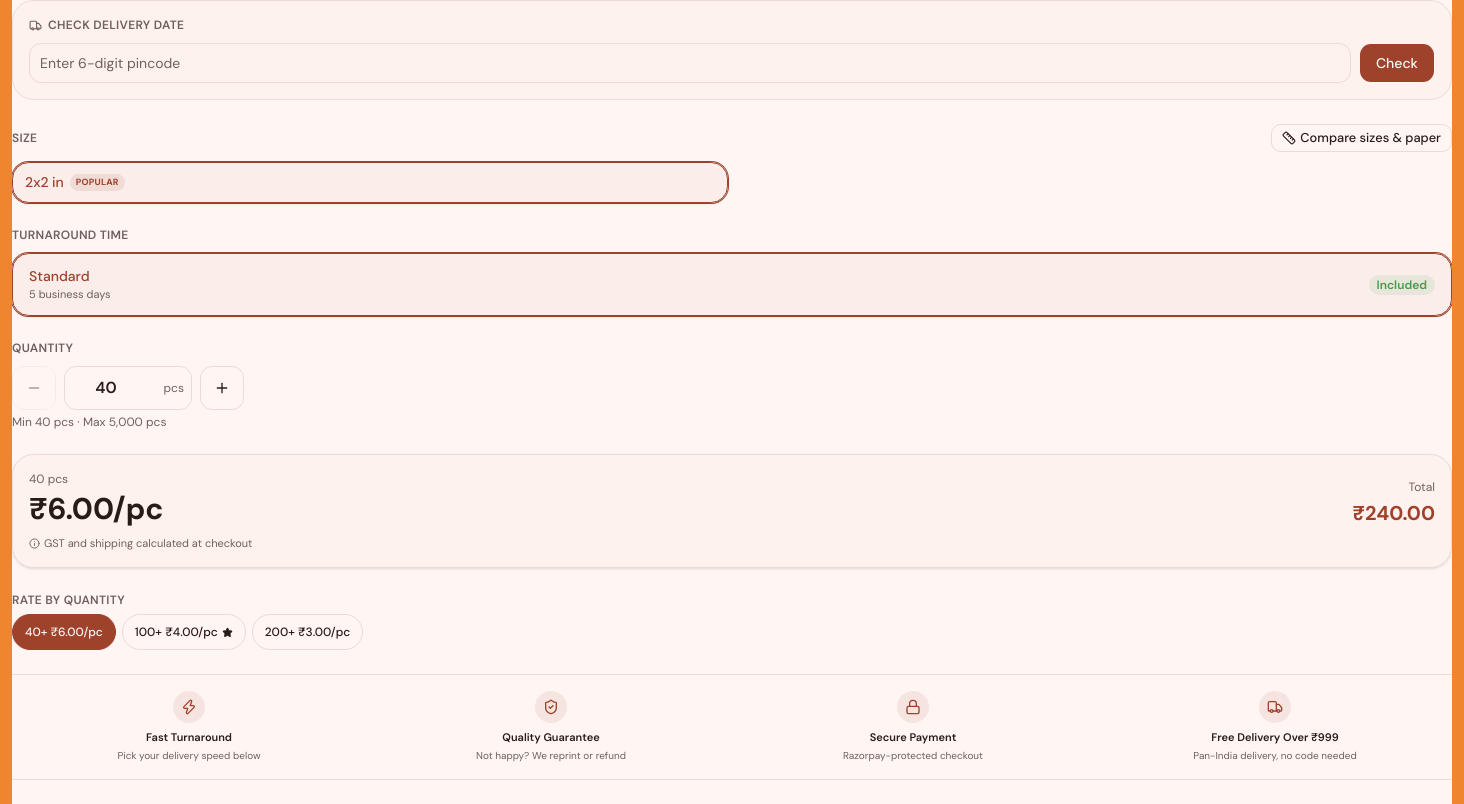
ProductConfigurator › a tier chip jumps to that tier's start
Click the button with aria-label "Set quantity to 200 pcs": click(308, 632) [252,614,363,650]
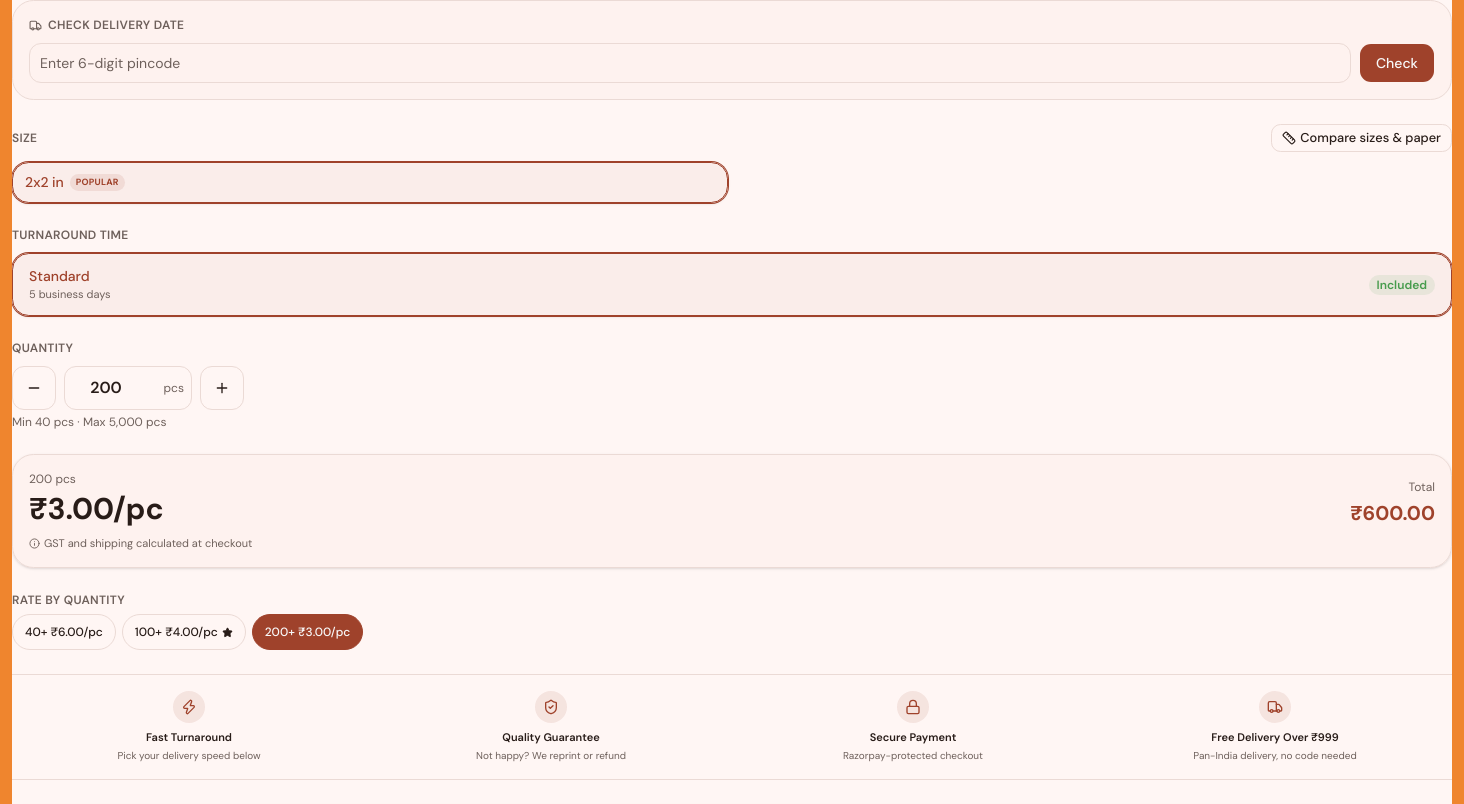
Now the field named "Quantity" holds "200", box [64,366,192,410]
